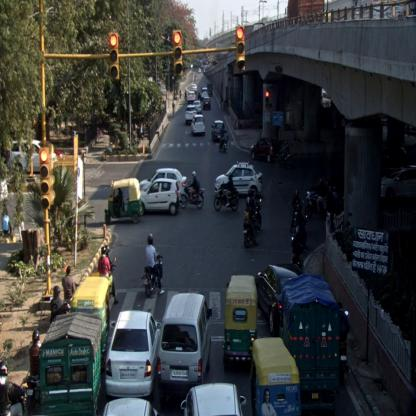car: (157, 292, 211, 385), (106, 309, 161, 397), (257, 262, 304, 333), (180, 384, 246, 415), (141, 167, 190, 197), (213, 165, 262, 195), (141, 180, 180, 217), (382, 164, 416, 204), (251, 140, 279, 160), (211, 119, 225, 144), (191, 116, 205, 136), (184, 107, 196, 124), (193, 100, 202, 113), (204, 97, 212, 108)
motorcycle: (141, 235, 166, 297), (241, 189, 266, 249), (180, 171, 208, 211), (290, 204, 308, 264), (99, 244, 117, 302), (214, 173, 239, 214), (340, 304, 353, 382), (306, 180, 331, 216), (277, 143, 292, 166), (219, 128, 228, 152)
truck: (282, 271, 339, 406), (40, 312, 100, 415)
